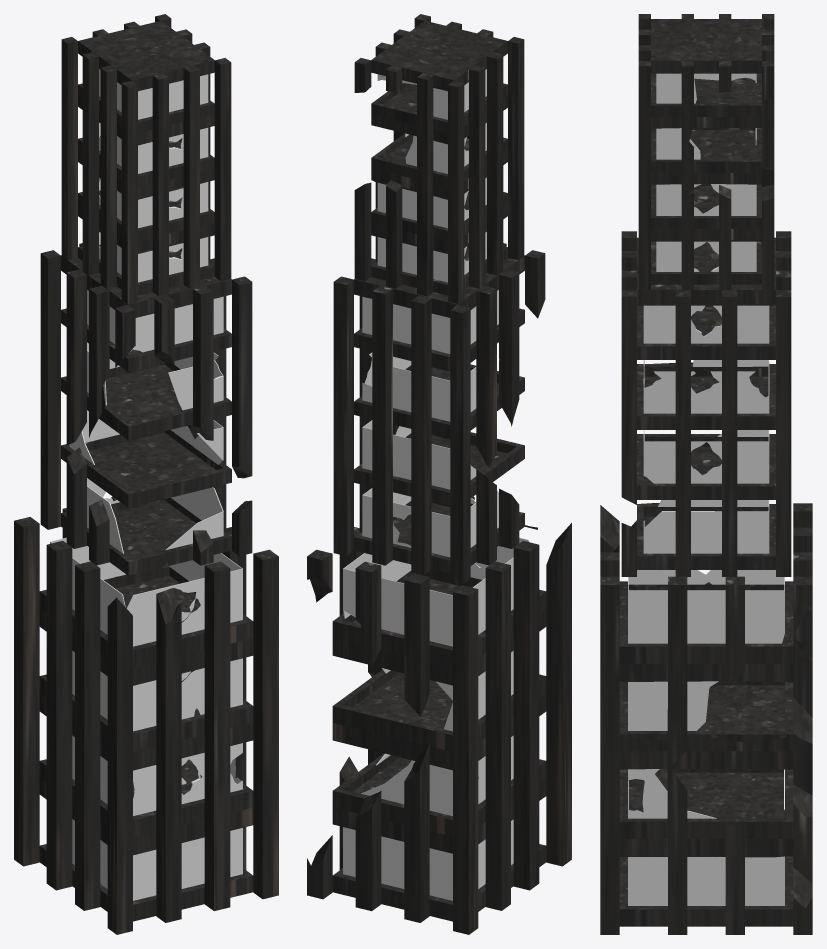
Rendered from High Rise 1.fbx.
The picture shows the model from 3 angles, left to right: view 1: azimuth 30°, elevation 25°; view 2: azimuth 150°, elevation 25°; view 3: azimuth 270°, elevation 25°; orthographic projection. The views are drawn at different scales.
Parts seen in each view (by area): view 1: HighRise.003, Windows; view 2: HighRise.003, Windows; view 3: HighRise.003, Windows.
Part boxes in pixels (left/top/right/bottom): HighRise.003: left=14, top=14, right=278, bottom=934; Windows: left=50, top=69, right=242, bottom=900; HighRise.003: left=307, top=14, right=571, bottom=934; Windows: left=343, top=69, right=529, bottom=900; HighRise.003: left=600, top=14, right=812, bottom=934; Windows: left=628, top=73, right=784, bottom=905.
Size of the model in its own units: 992 by 4841 by 1091.
